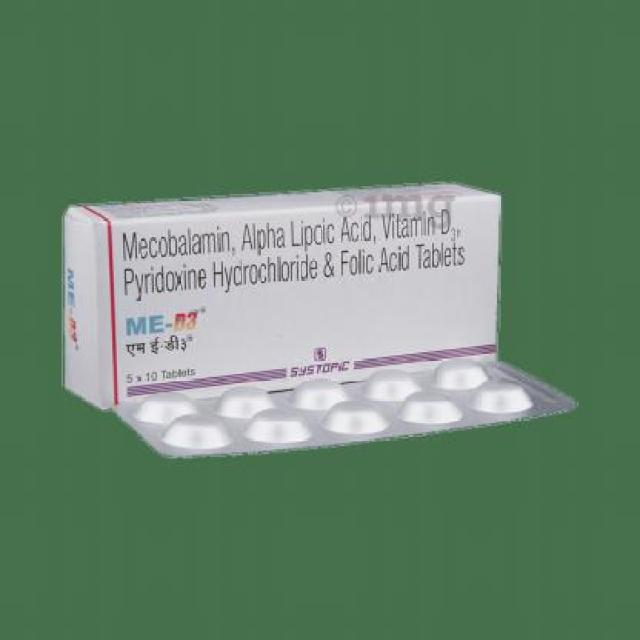B3: (143, 346, 543, 456)
